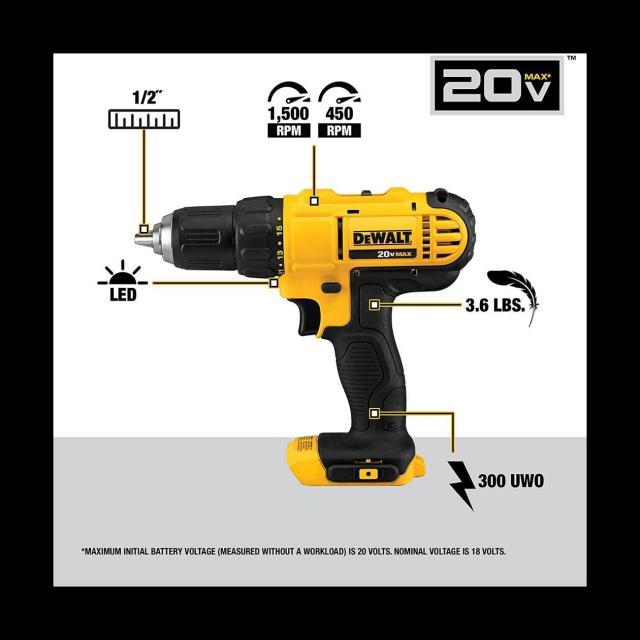drill: (136, 188, 477, 486)
